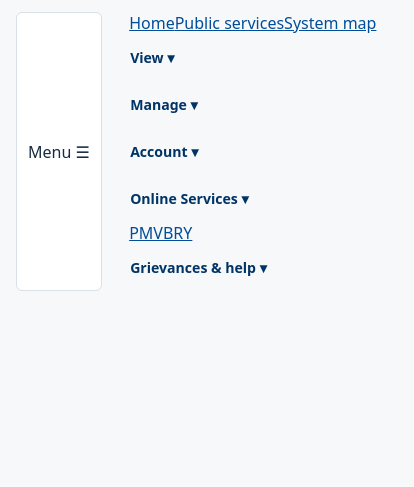
Test case: keeps the member menu available while loading and then adds international coverage
The width and height of the screenshot is (414, 487).
Click the button "View ▾" at (152, 58), box [129,34,175,81]
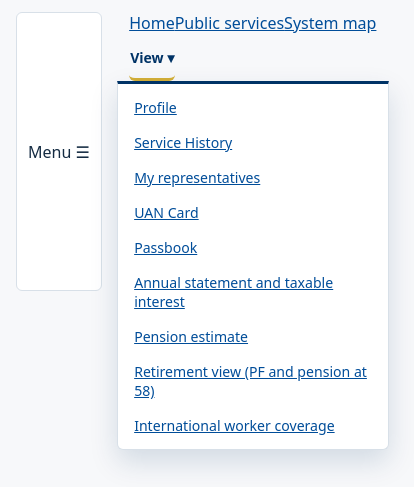
Expected: the link "Profile" is shown, [134,98,177,117]
